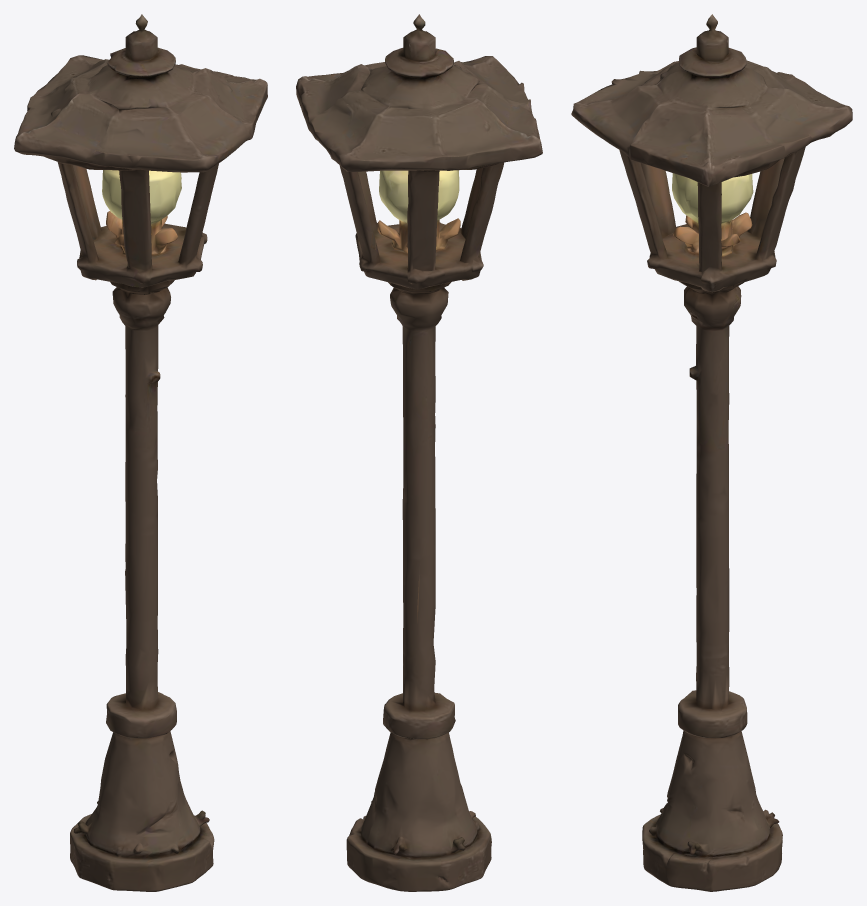
The picture shows the model from 3 angles, left to right: view 1: azimuth 30°, elevation 25°; view 2: azimuth 150°, elevation 25°; view 3: azimuth 270°, elevation 25°; orthographic projection.
Visible parts, largest first — view 1: tripo_node_e170a02f-e2a7-42f8-a0dc-af012f11b41c; view 2: tripo_node_e170a02f-e2a7-42f8-a0dc-af012f11b41c; view 3: tripo_node_e170a02f-e2a7-42f8-a0dc-af012f11b41c.
Boxes of the visible parts, x1=… form: tripo_node_e170a02f-e2a7-42f8-a0dc-af012f11b41c: x1=14, y1=14, x2=267, y2=891; tripo_node_e170a02f-e2a7-42f8-a0dc-af012f11b41c: x1=296, y1=14, x2=542, y2=891; tripo_node_e170a02f-e2a7-42f8-a0dc-af012f11b41c: x1=571, y1=14, x2=852, y2=891.
Size of the model in its own units: 0.461 by 1.5 by 0.4507.
1 material, 1 textured.
